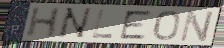E: (119, 9, 154, 40)
H: (24, 6, 63, 39)
L: (91, 9, 114, 40)
N: (178, 9, 216, 43), (55, 7, 94, 40)
O: (153, 9, 182, 42)
